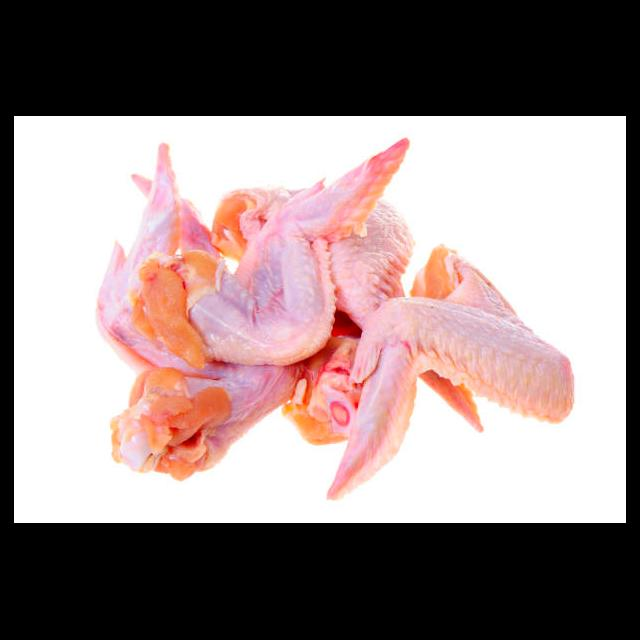chicken: (94, 142, 303, 484), (327, 244, 575, 503), (189, 138, 411, 362)
